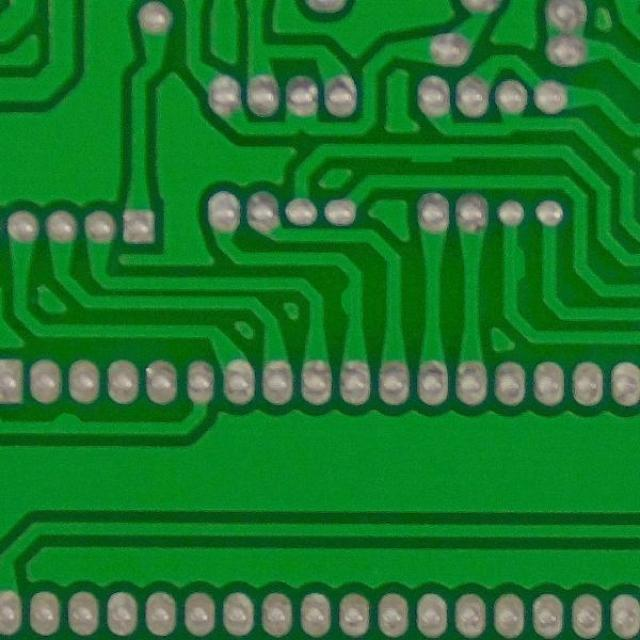Spur: (41, 406, 98, 443), (494, 236, 534, 286), (403, 138, 465, 168), (334, 282, 372, 326)
